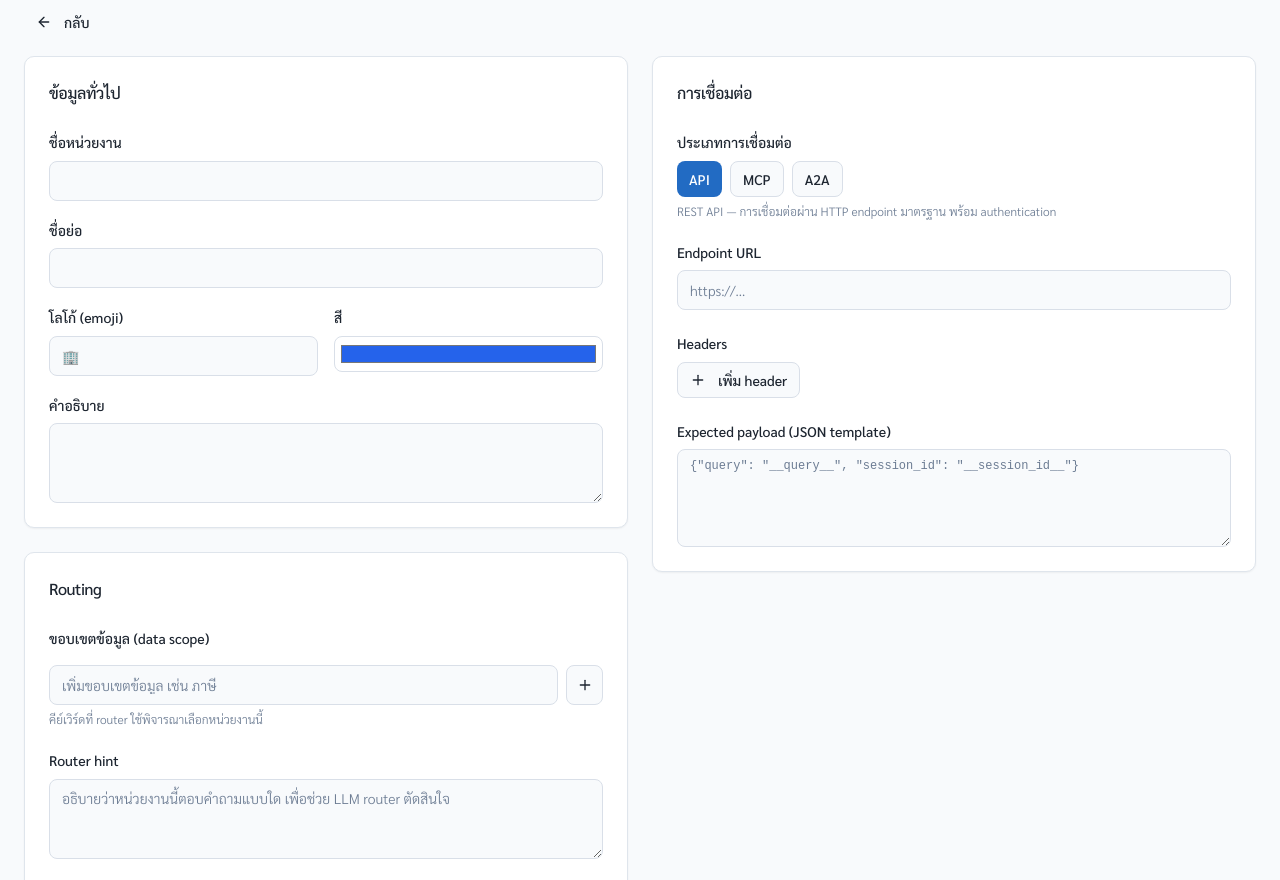
AgencyFormPage — single page › keeps เปิดใช้งาน disabled until an endpoint URL is valid
Type "กรมทดสอบ" into the field labelled "ชื่อหน่วยงาน".
click(326, 181); type("กรมทดสอบ")  # box [49, 161, 603, 201]
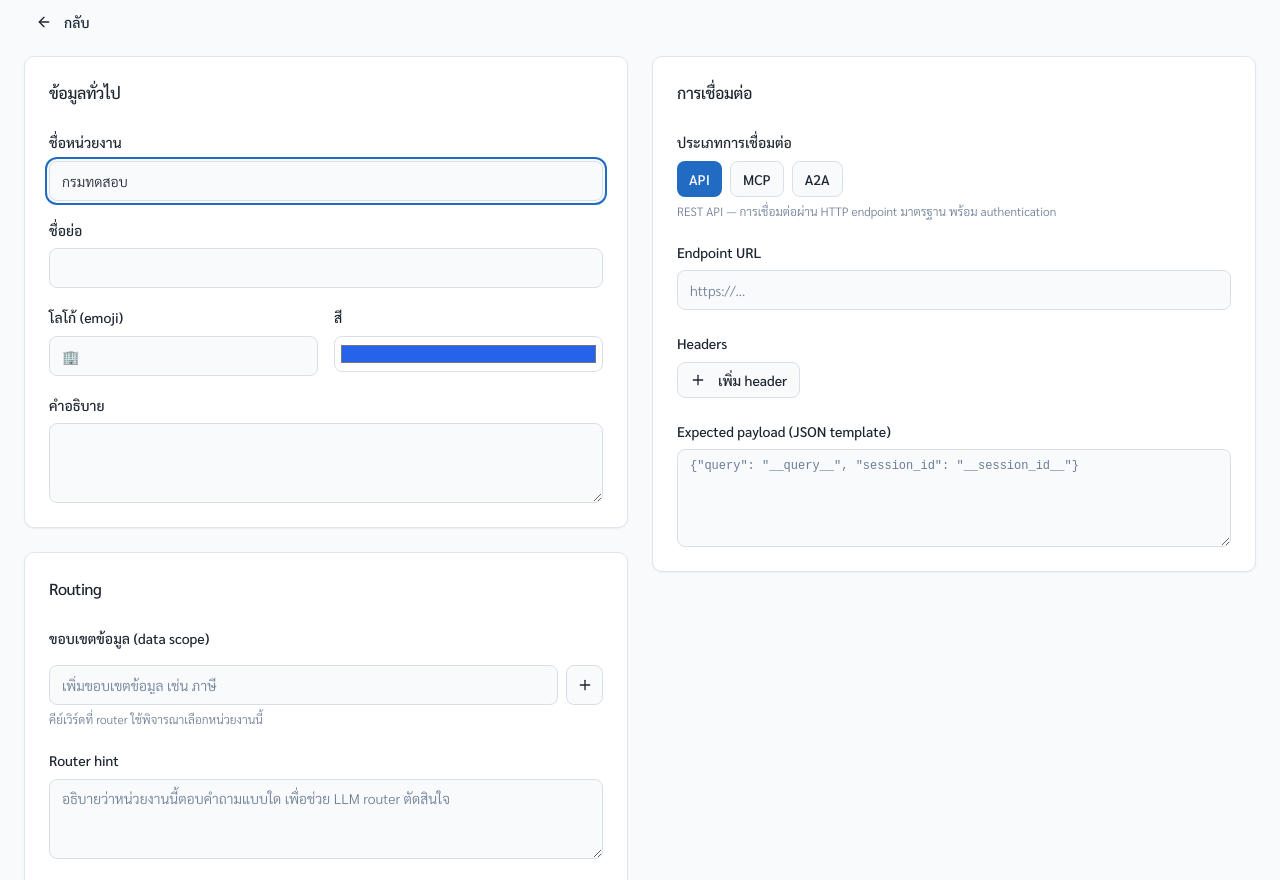
Type "TST" into the field labelled "ชื่อย่อ".
click(326, 268); type("TST")  # box [49, 248, 603, 288]
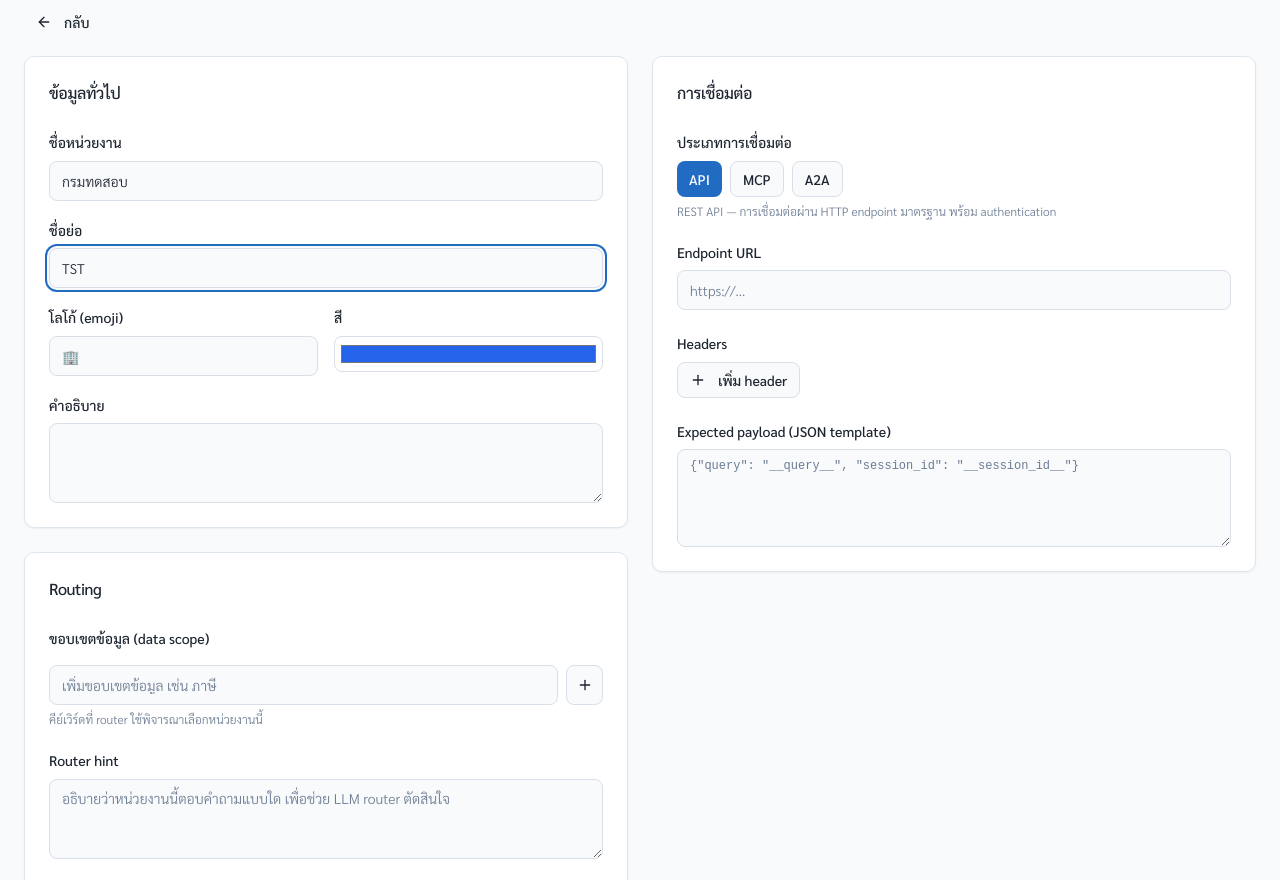
Type "https://valid.example/api" into the field labelled "Endpoint URL".
click(954, 290); type("https://valid.example/api")  # box [677, 270, 1231, 310]
(page scrolled)
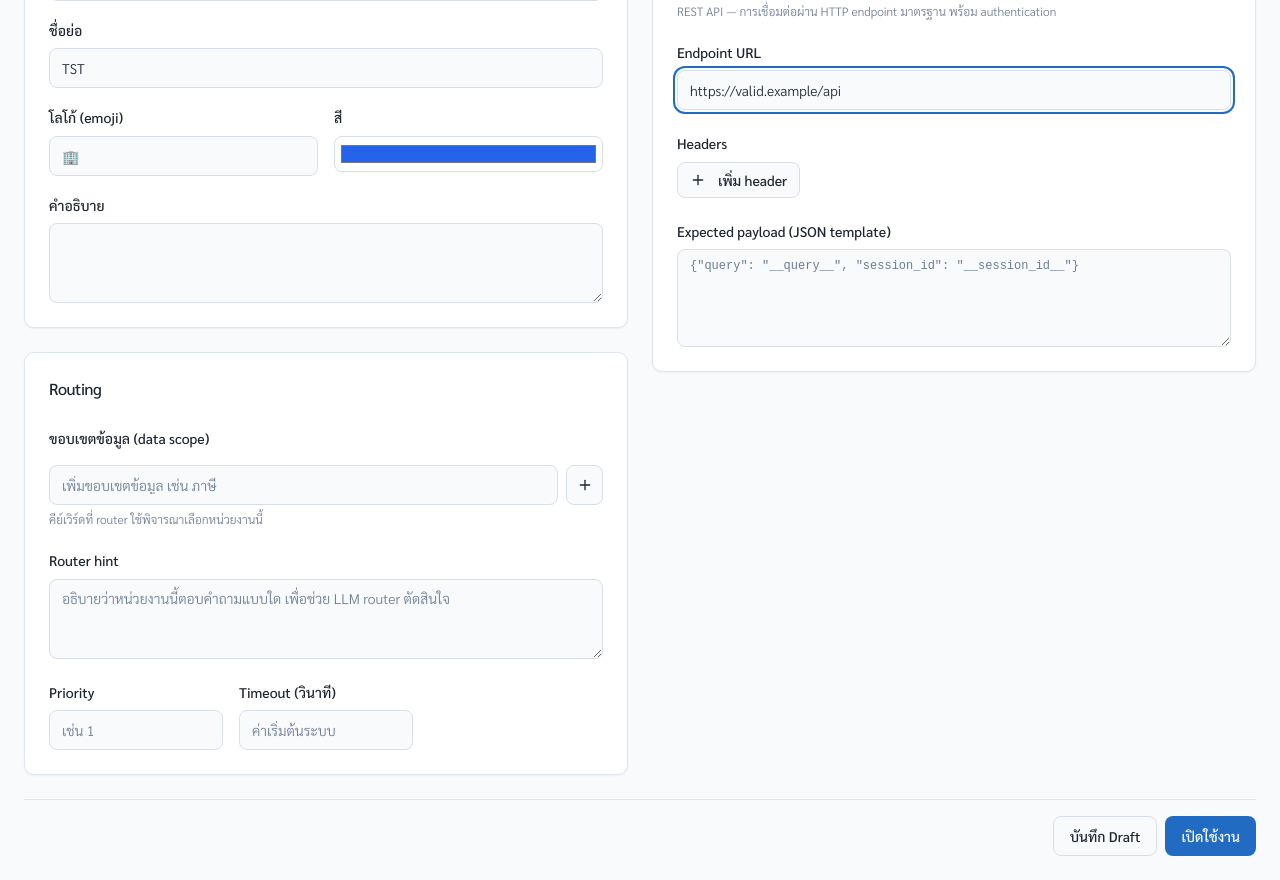
Check: the button "เปิดใช้งาน" is enabled, box [1165, 816, 1256, 856]
